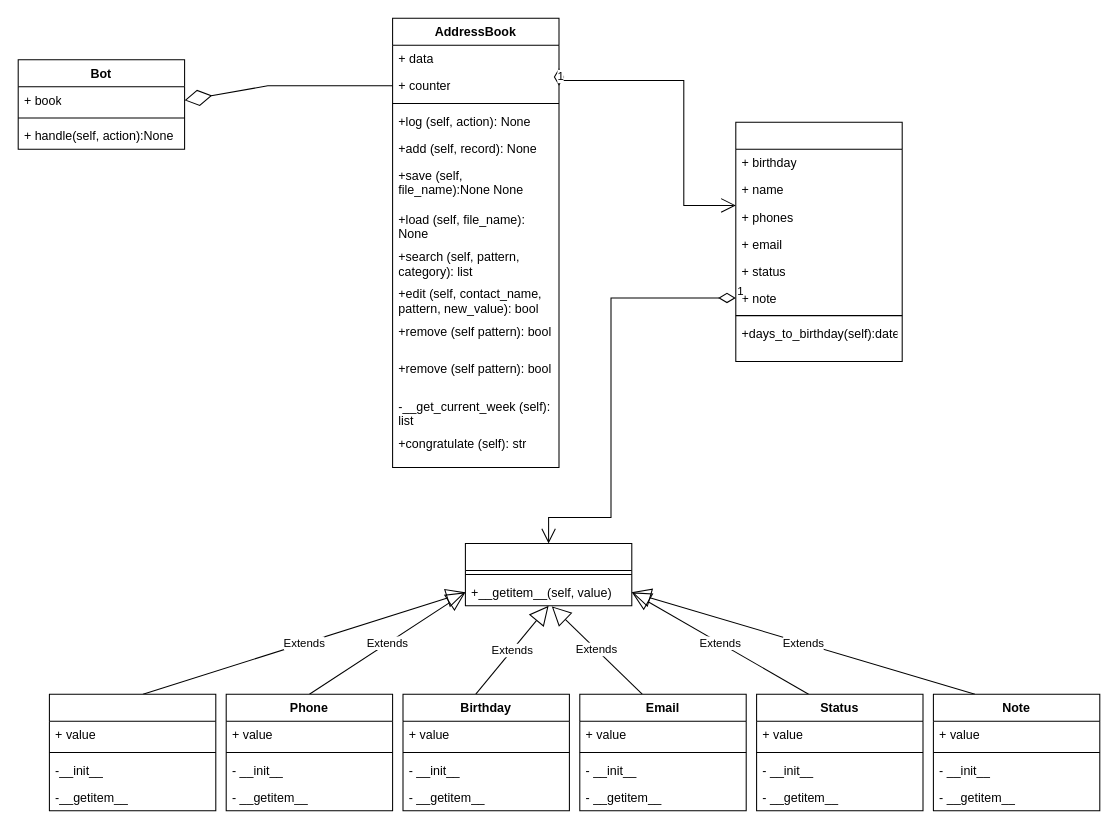
Some shapes in this 1118 by 832 pixel diagram are drawn without their labels. The box of each missing label's shape, as (x1, y1, x2, y2) in pixels:
Field: (464, 542, 632, 606)
Name: (48, 693, 216, 811)
Record: (735, 121, 902, 361)
